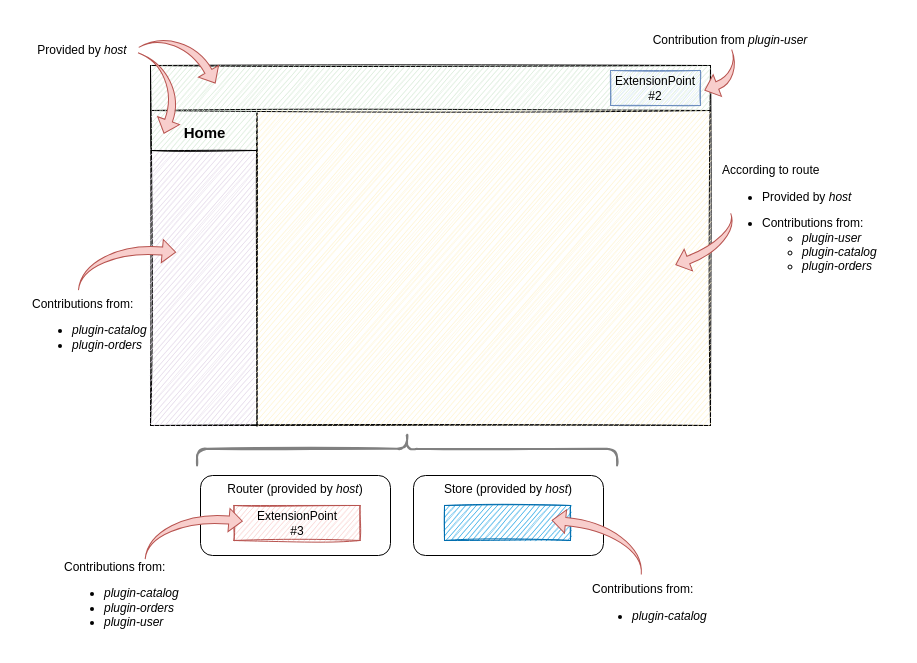
Image size: 917x663. Some labels were removed from this diagram. Here are the shapes that lost their labels. From the top down, the centre of each, then its label:
the point at 202,287: ExtensionPoint #1
the point at 507,522: ExtensionPoint #4
